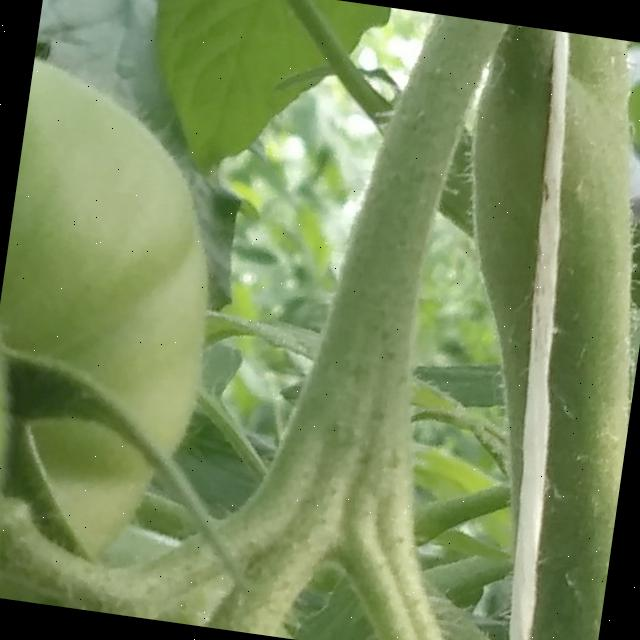tomato: (0, 186, 640, 640)
